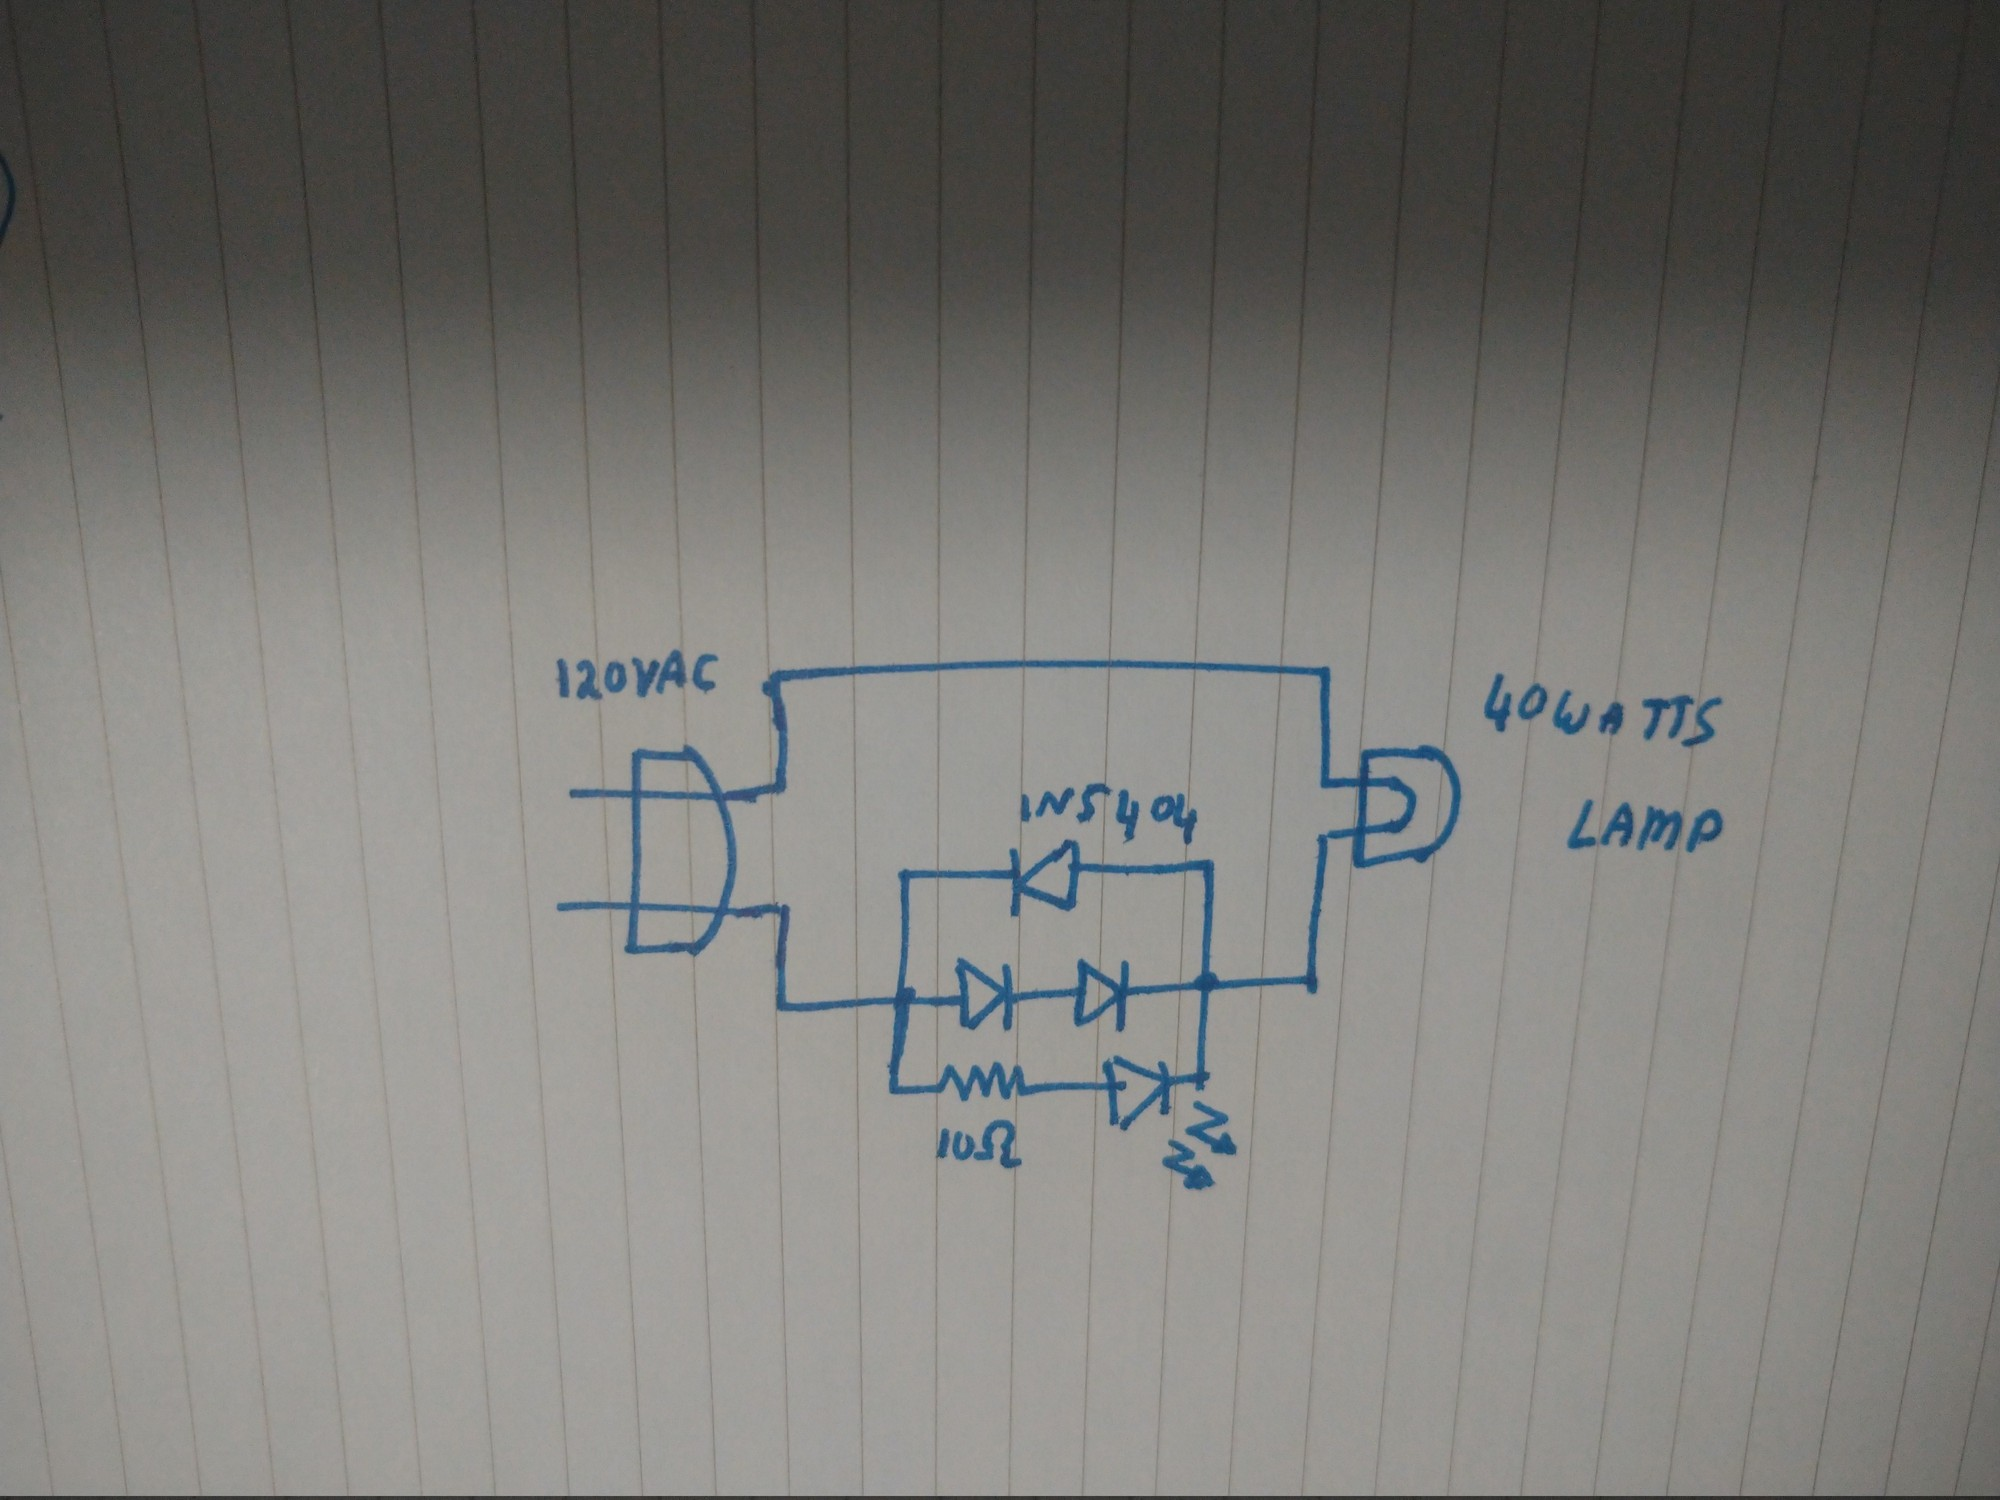diode: (1002, 835, 1087, 923), (946, 952, 1020, 1037), (1066, 952, 1139, 1038)
diode.light_emitting: (1091, 1049, 1254, 1193)
junction: (1184, 966, 1228, 1004), (1306, 655, 1350, 692), (1291, 961, 1331, 1001), (764, 770, 802, 807), (759, 659, 795, 696), (887, 975, 921, 1015), (769, 893, 802, 930), (765, 993, 797, 1024), (880, 1075, 909, 1108), (1194, 851, 1224, 881), (1313, 769, 1343, 797), (1310, 822, 1339, 851), (893, 863, 921, 889)
lamp: (1350, 736, 1468, 881)
resistor: (931, 1059, 1031, 1106)
socket: (616, 742, 739, 963)
terminal: (545, 893, 580, 922), (556, 783, 587, 807)
text: (1474, 663, 1731, 759), (1013, 775, 1205, 849), (1554, 789, 1731, 870), (542, 641, 724, 714), (928, 1116, 1031, 1175)
